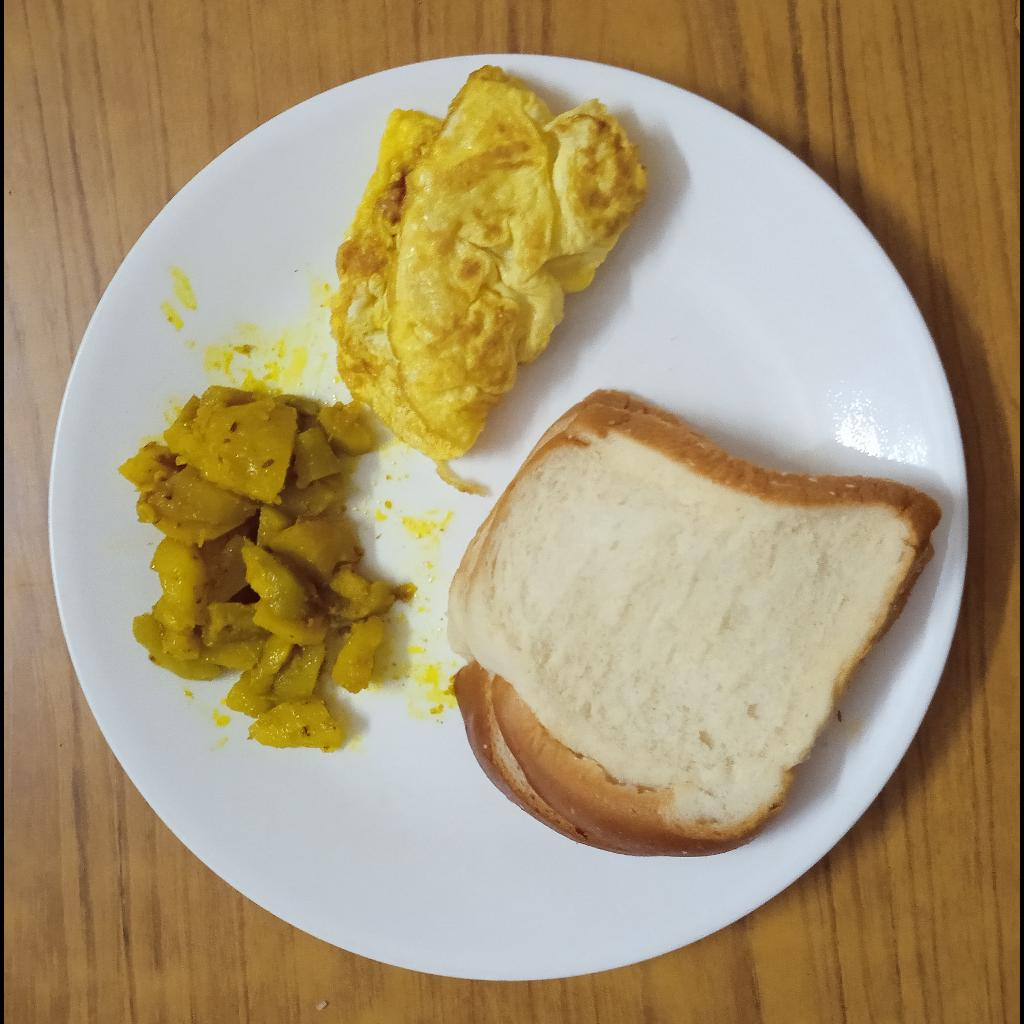bread: (441, 389, 947, 861)
egg-poached: (325, 60, 655, 463)
lau: (117, 389, 397, 749)
